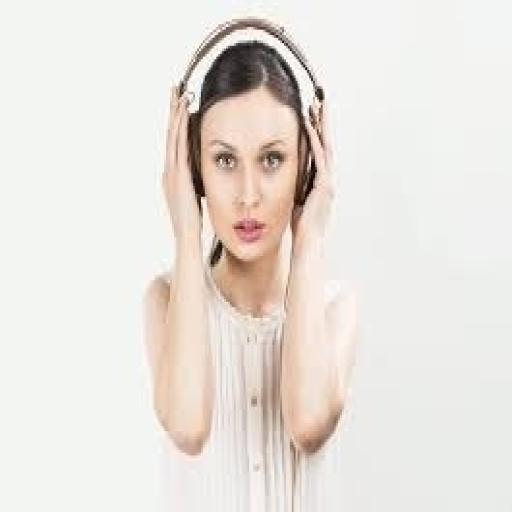listening_to_music: (139, 27, 361, 509)
